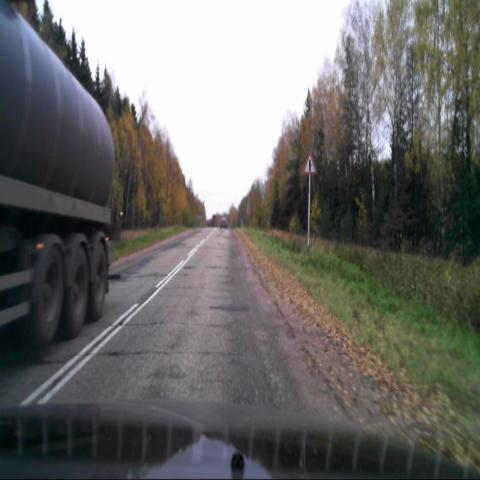2_3_2: (303, 152, 317, 175)
